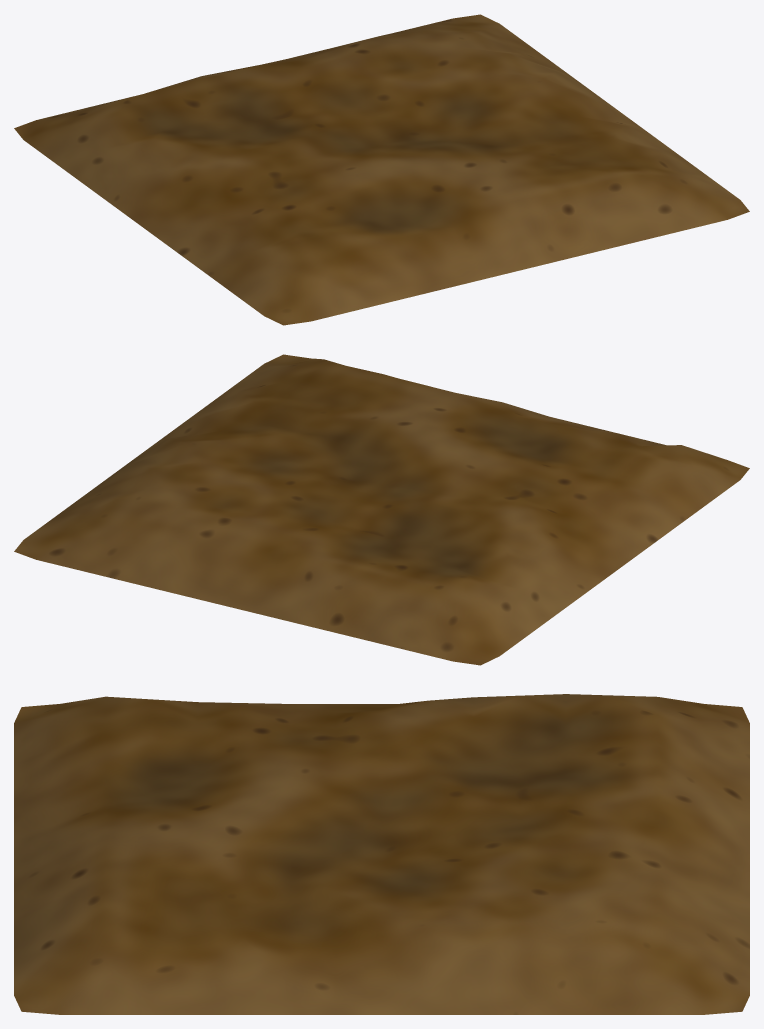
The model's file is DIRT.fbx.
The picture shows the model from 3 angles, top to bottom: view 1: azimuth 30°, elevation 25°; view 2: azimuth 150°, elevation 25°; view 3: azimuth 270°, elevation 25°; orthographic projection. The views are drawn at different scales.
Visible parts, largest first — view 1: DIRT; view 2: DIRT; view 3: DIRT.
Boxes of the visible parts, x1,y1,x2,y2 form: DIRT: (14, 14, 749, 325); DIRT: (14, 354, 749, 665); DIRT: (14, 694, 749, 1014).
Bounding box in the file's own units: 100 × 8.01 × 100.
1 material, 1 textured.
